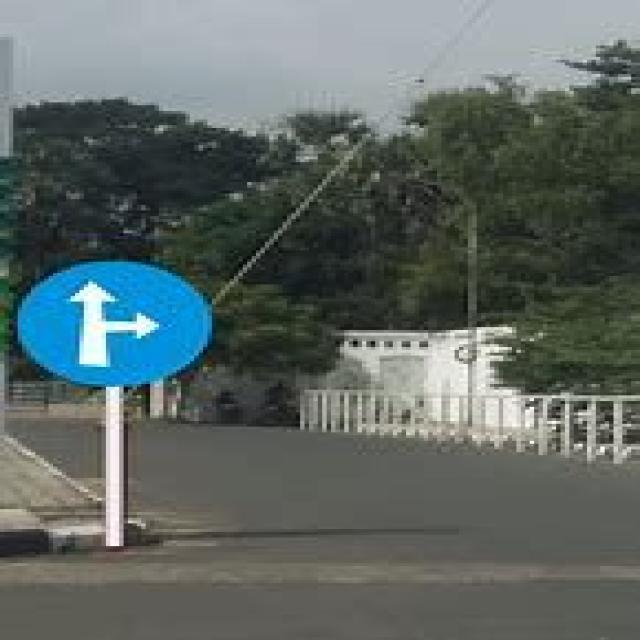COMPULSARY_AHEAD_OR_TURN_RIGHT: (11, 260, 212, 390)
